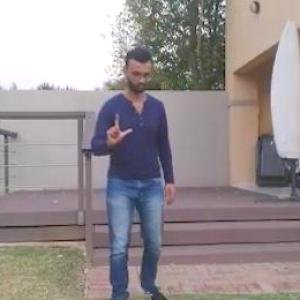land_hand: (98, 105, 134, 152)
